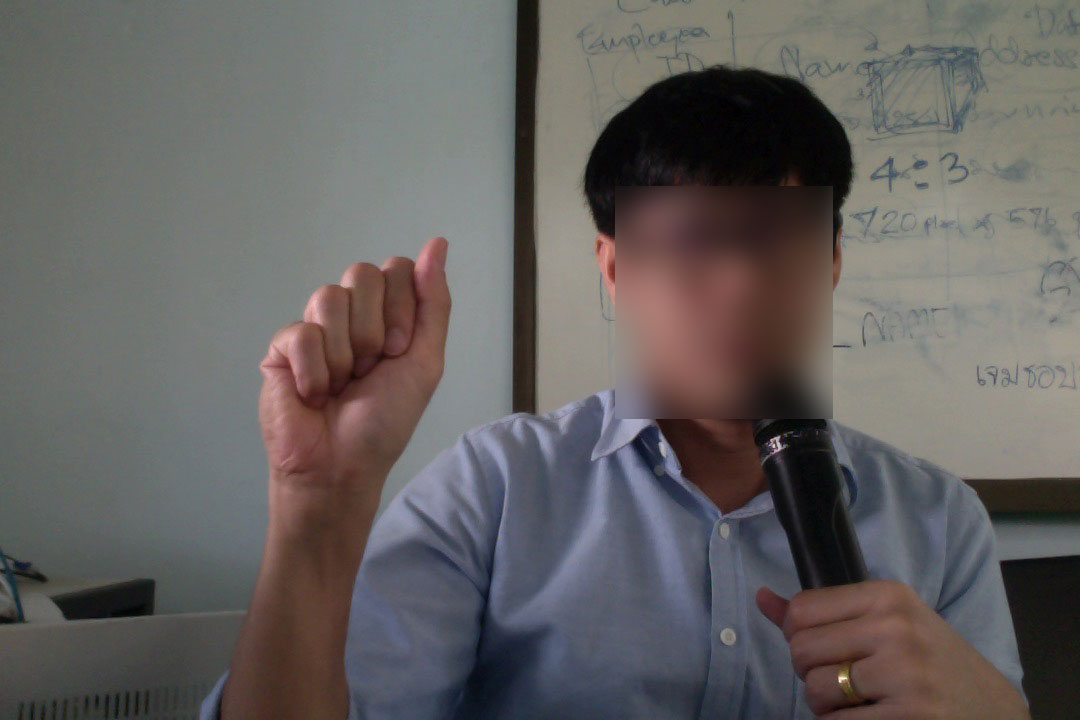or: (243, 228, 460, 509)
